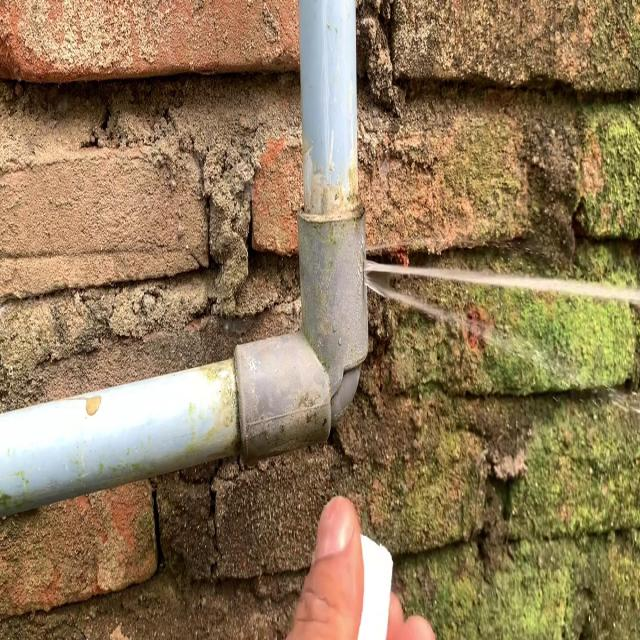leak: (360, 250, 640, 423)
